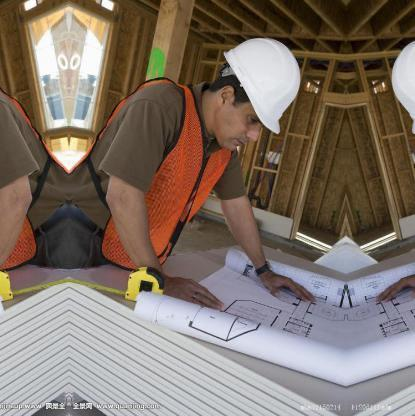helmet: (221, 35, 301, 134)
